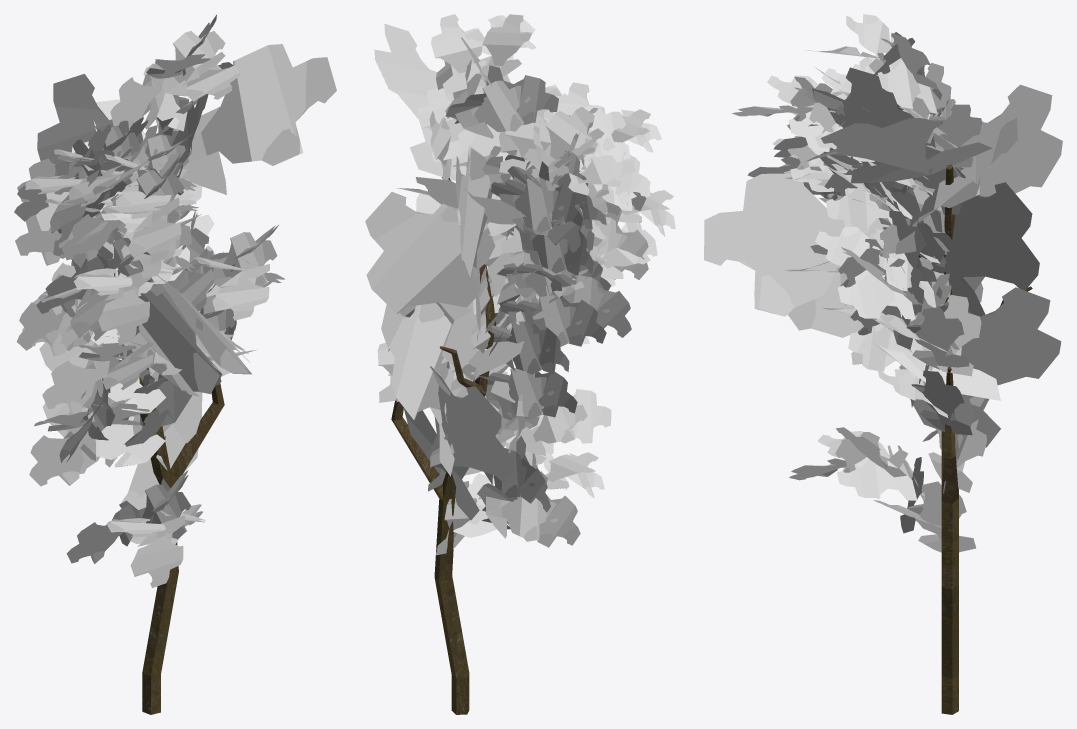
File: LowPoly Trees.fbx
3 views of the same model, side by side, from view 1: azimuth 30°, elevation 25°; view 2: azimuth 150°, elevation 25°; view 3: azimuth 270°, elevation 25° (orthographic). The views are drawn at different scales.
Parts seen in each view (by area): view 1: Tree Branch.002, Cylinder.001; view 2: Tree Branch.002, Cylinder.001; view 3: Tree Branch.002, Cylinder.001.
Boxes of the visible parts, x1,y1,x2,y2 form: Tree Branch.002: (14, 14, 336, 587); Cylinder.001: (139, 284, 224, 714); Tree Branch.002: (365, 14, 675, 555); Cylinder.001: (391, 177, 497, 714); Tree Branch.002: (704, 14, 1062, 552); Cylinder.001: (918, 164, 1032, 714).
Size of the model in its own units: 771 by 1816 by 849.
